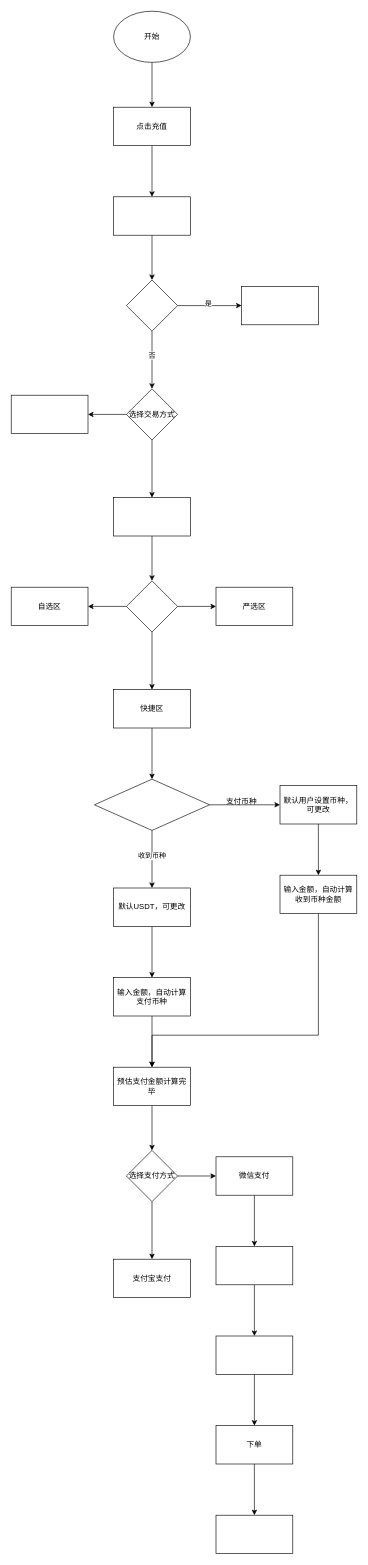
This 368x1565 diagram has some shape labels left out. The shapes that lost their labels are listed below. From the top down, each one's box as (x1, y1, x2, y2) in pixels, then its label:
(113, 196, 190, 235): 选择支付币种（默认是用户设置的余额币种）
(126, 279, 178, 331): 是否有数字资产？
(113, 497, 190, 536): C2C交易
(126, 580, 178, 632): 交易分区
(94, 779, 210, 830): 选择以支付币种还是收到币种计算
(215, 1246, 293, 1285): 选择广告，默认综合最优广告
(215, 1335, 293, 1374): 刷新价格
(215, 1515, 293, 1554): 弹出支付操作提示
